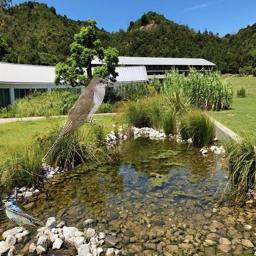Cuckoo: (42, 77, 115, 162)
Swallow: (3, 199, 44, 230)
